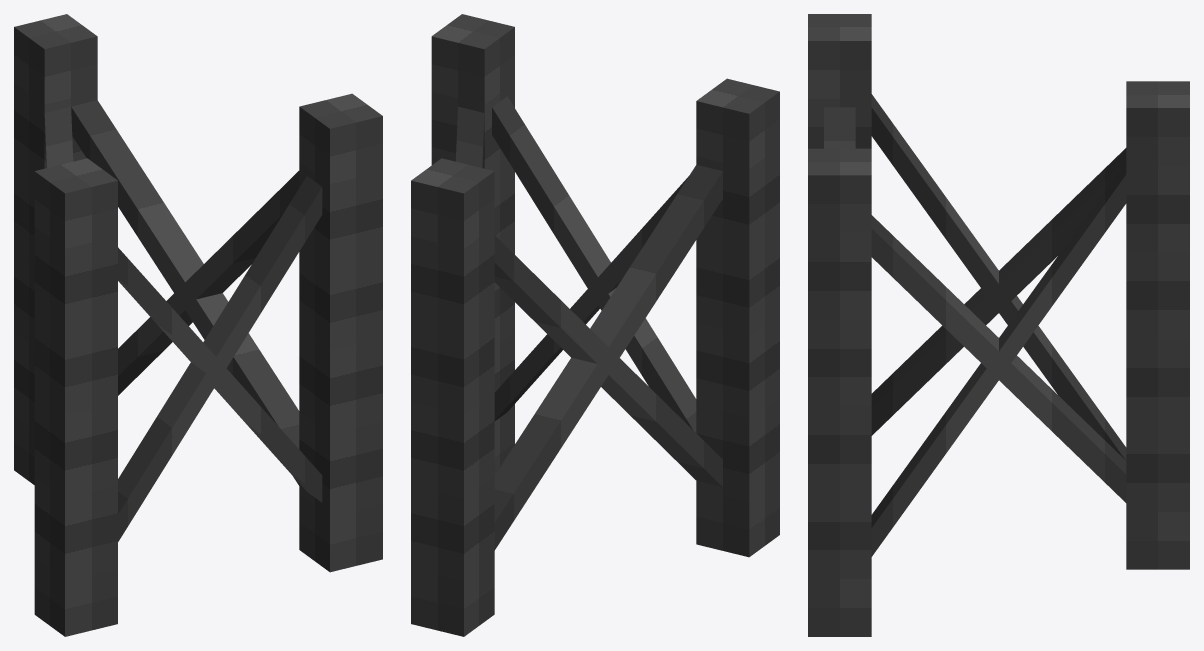
File: steel_pole.obj
The picture shows the model from 3 angles, left to right: view 1: azimuth 30°, elevation 25°; view 2: azimuth 150°, elevation 25°; view 3: azimuth 270°, elevation 25°; orthographic projection. The views are drawn at different scales.
Visible parts, largest first — view 1: steel_pole_model; view 2: steel_pole_model; view 3: steel_pole_model.
Part boxes in pixels (x1,y1,x2,y2): steel_pole_model: [14, 14, 382, 636]; steel_pole_model: [411, 14, 779, 636]; steel_pole_model: [808, 14, 1189, 636].
Size of the model in its own units: 0.75 by 1 by 0.75.
